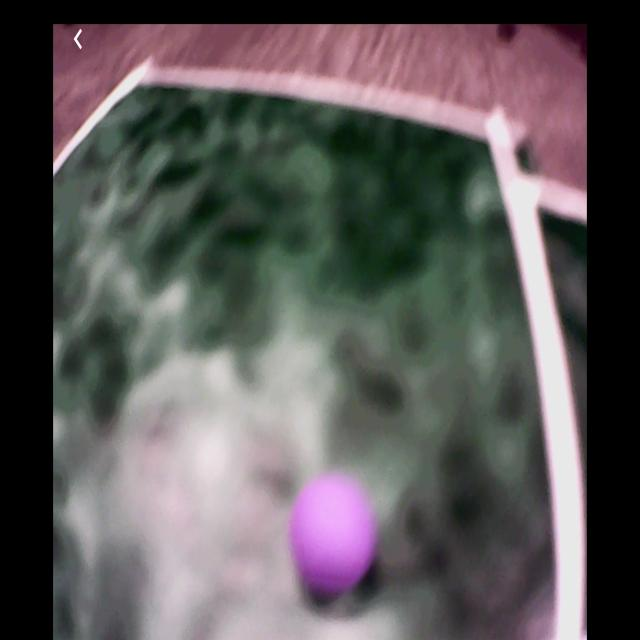ball: (293, 478, 374, 602)
